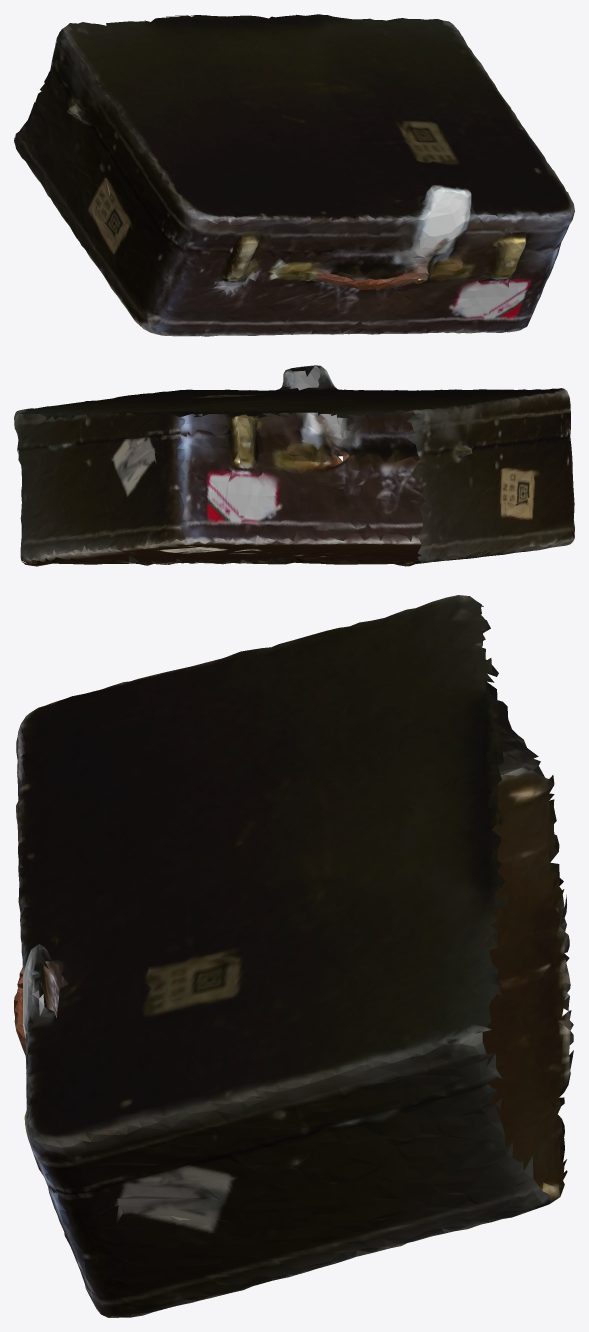
The model's file is Suitcase Decimated.obj.
3 views of the same model, one above another, from view 1: azimuth 30°, elevation 25°; view 2: azimuth 150°, elevation 25°; view 3: azimuth 270°, elevation 25° (orthographic). The views are drawn at different scales.
Parts seen in each view (by area): view 1: Object.1; view 2: Object.1; view 3: Object.1.
Boxes of the visible parts, bbox=[...] form: Object.1: bbox=[14, 14, 574, 336]; Object.1: bbox=[14, 365, 574, 566]; Object.1: bbox=[14, 595, 573, 1317].
Bounding box in the file's own units: 547 × 360 × 394.
